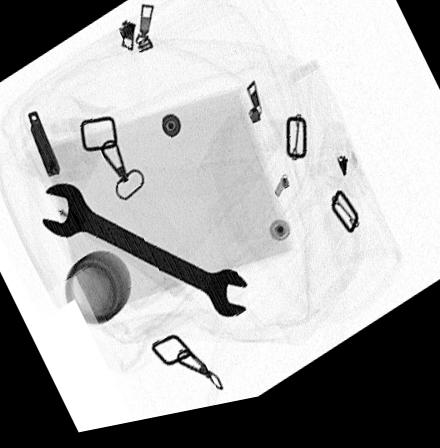Wrench: (42, 182, 250, 327)
